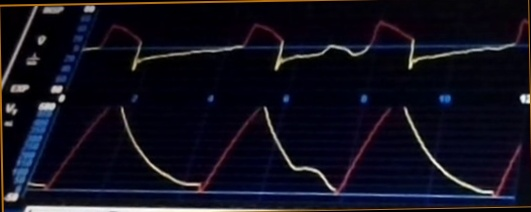Ineffective_effort Flow: (83, 13, 528, 77)
Ineffective_effort Volume: (29, 107, 523, 200)
